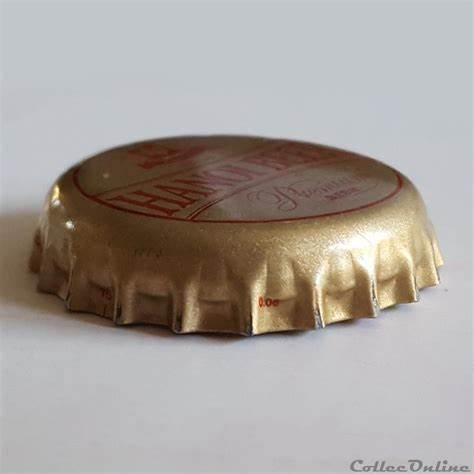metal: (29, 136, 444, 336)
